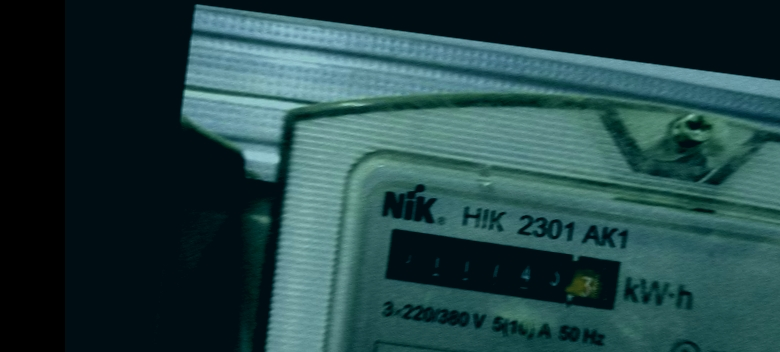0: (399, 238, 416, 268)
1: (459, 246, 475, 275), (430, 242, 444, 270)
3: (547, 261, 564, 289), (577, 274, 594, 300)
4: (517, 257, 535, 285)
7: (488, 250, 506, 280)
screen: (373, 216, 634, 323)
